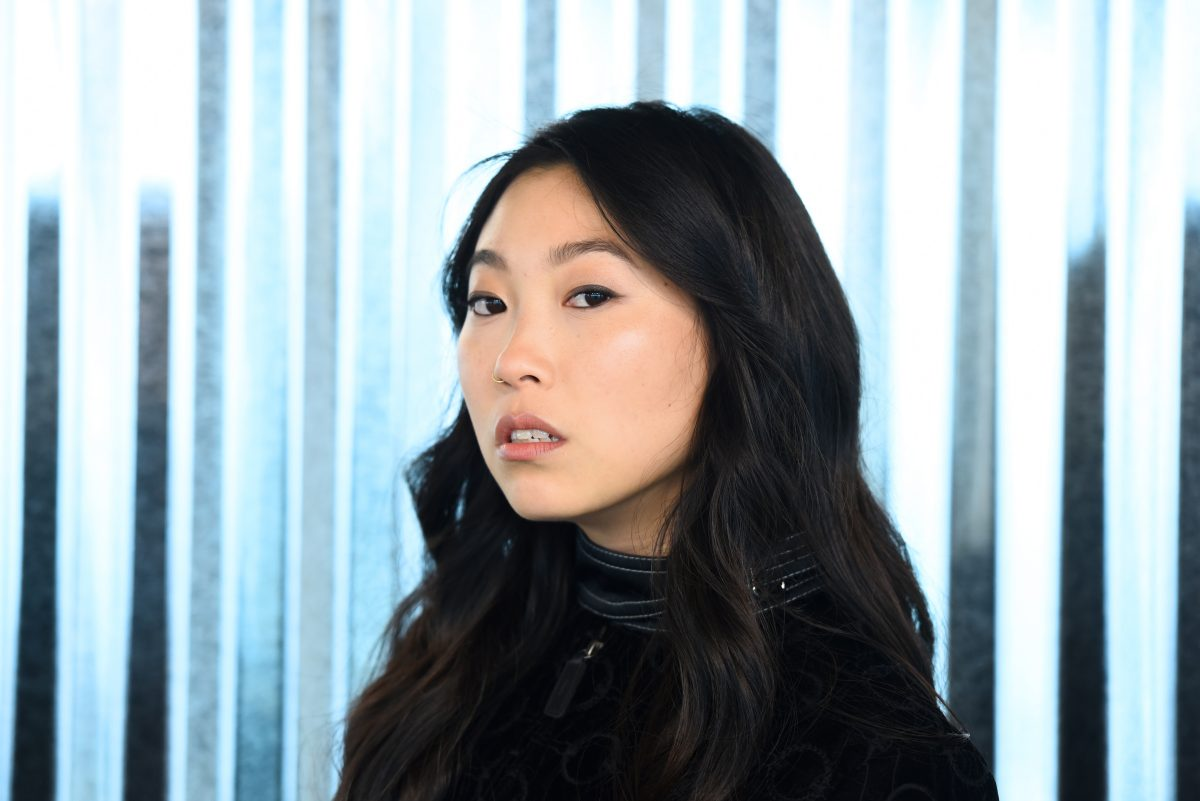bare: (453, 332, 692, 515)
